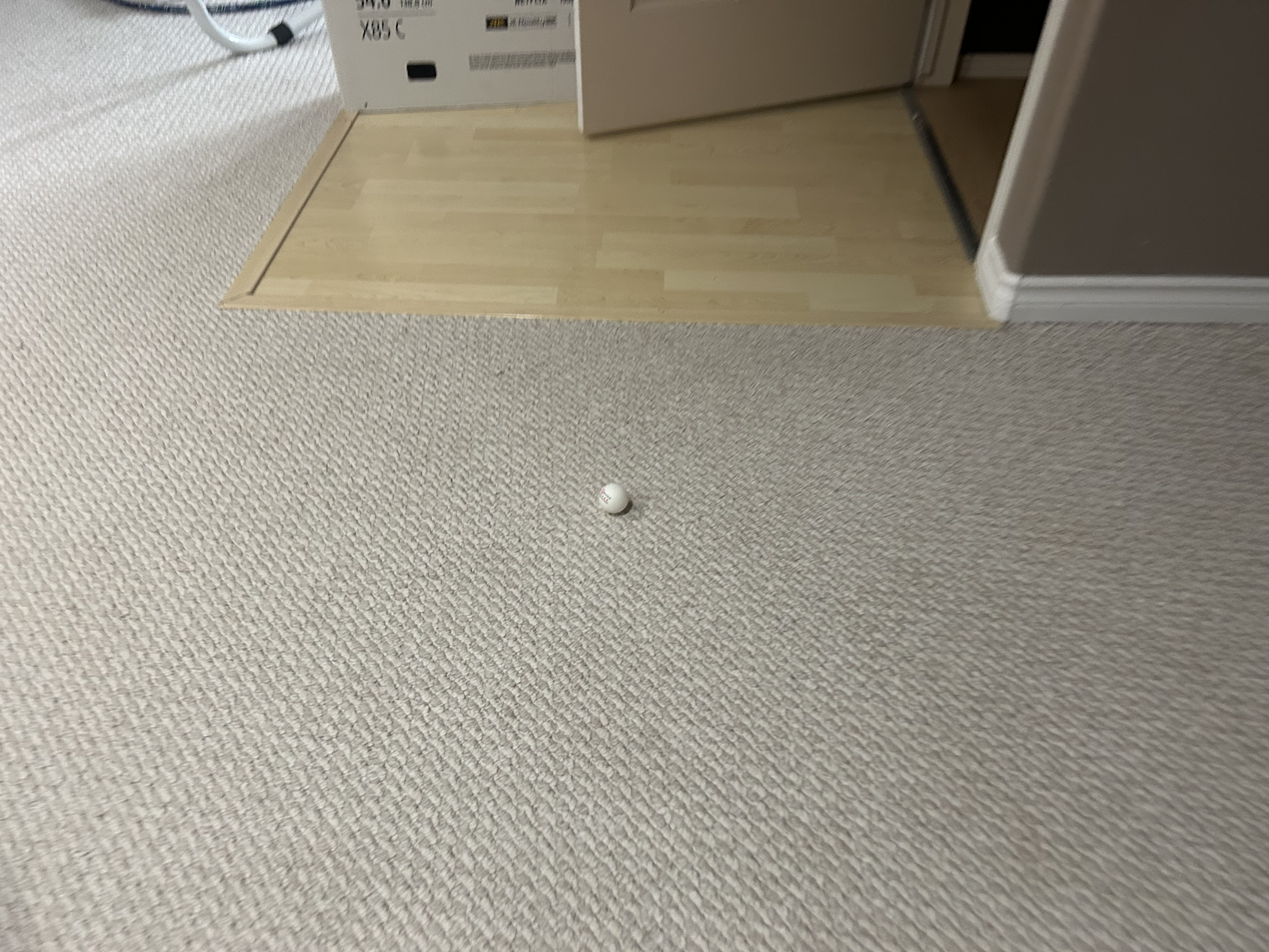Ball: (598, 482, 628, 514)
